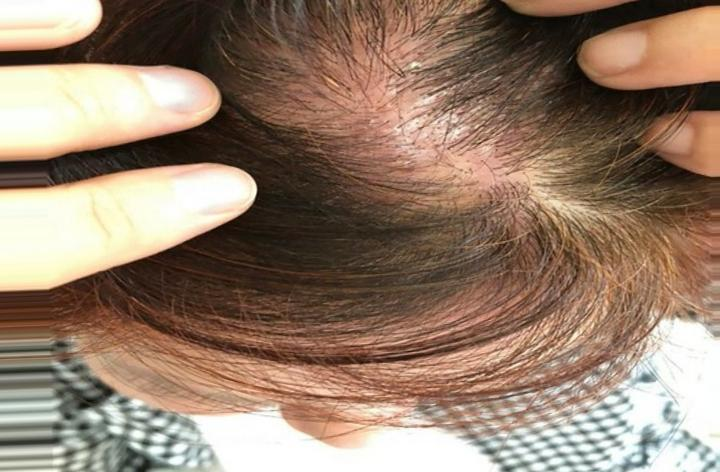Contact Dermatitis: (292, 11, 495, 258)
